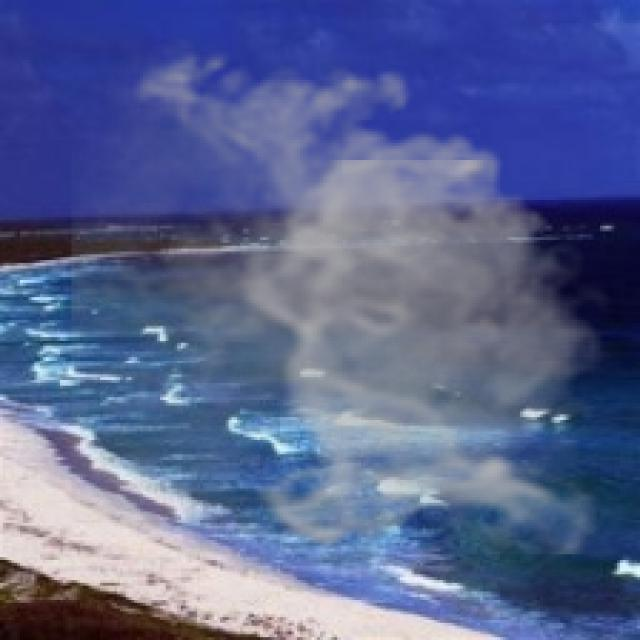Smoke: (71, 37, 623, 554)
